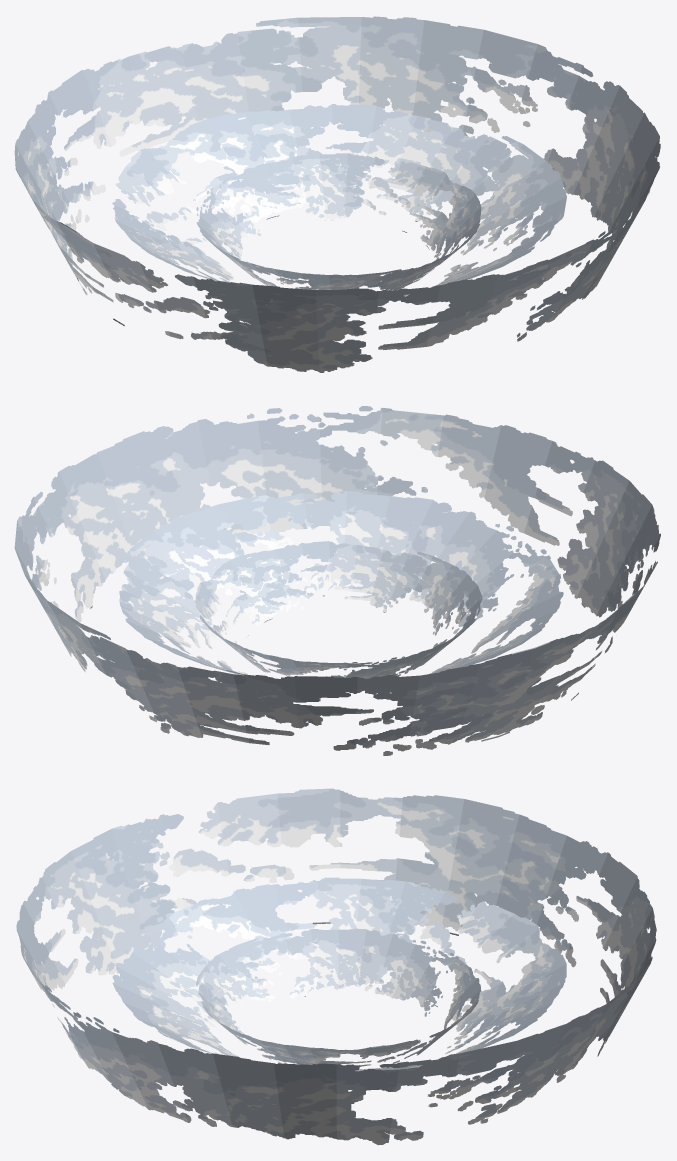
File: slclouds2.obj
The picture shows the model from 3 angles, top to bottom: view 1: azimuth 30°, elevation 25°; view 2: azimuth 150°, elevation 25°; view 3: azimuth 270°, elevation 25°; orthographic projection.
Visible parts, largest first — view 1: Cylinder.002_Cylinder.005, Cylinder.001_Cylinder.002, Cylinder; view 2: Cylinder.002_Cylinder.005, Cylinder.001_Cylinder.002, Cylinder; view 3: Cylinder.002_Cylinder.005, Cylinder.001_Cylinder.002, Cylinder.
Boxes of the visible parts, left/top/right/bottom form: Cylinder.002_Cylinder.005: left=14, top=16, right=660, bottom=372; Cylinder.001_Cylinder.002: left=112, top=104, right=566, bottom=300; Cylinder: left=196, top=153, right=481, bottom=290; Cylinder.002_Cylinder.005: left=14, top=406, right=660, bottom=755; Cylinder.001_Cylinder.002: left=119, top=491, right=563, bottom=692; Cylinder: left=195, top=541, right=482, bottom=679; Cylinder.002_Cylinder.005: left=16, top=788, right=656, bottom=1145; Cylinder.001_Cylinder.002: left=112, top=877, right=566, bottom=1071; Cylinder: left=196, top=928, right=480, bottom=1066.
Size of the model in its own units: 365 by 68.01 by 365.
